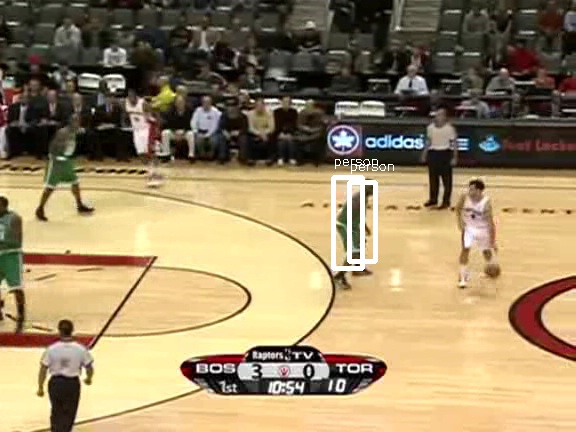person: (336, 182, 370, 263), (335, 182, 369, 263), (337, 182, 371, 263), (336, 181, 370, 262), (336, 183, 370, 264)
target_negative: (222, 194, 528, 370), (290, 270, 451, 384), (281, 150, 484, 236), (203, 395, 536, 428), (317, 411, 483, 420), (191, 348, 195, 375)
